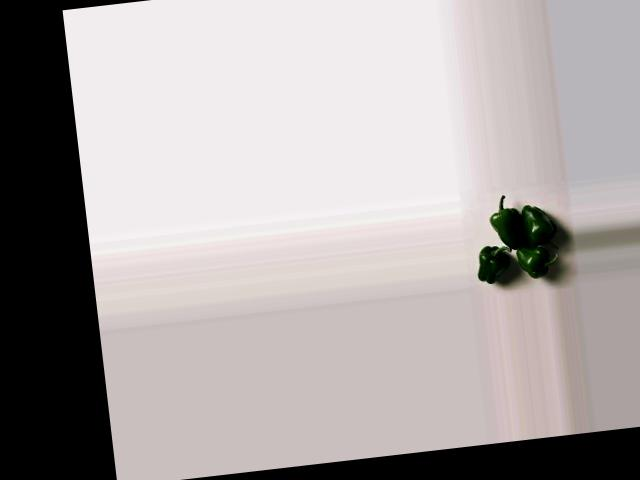bell_pepper: (513, 246, 558, 280)
